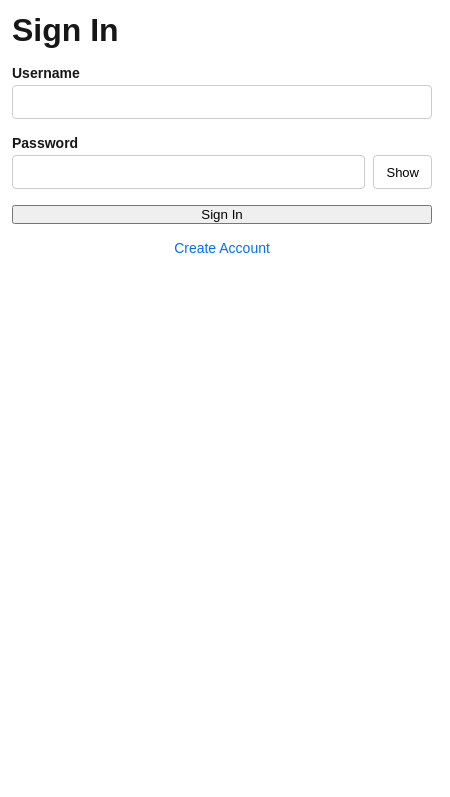
Test: AuthForm - create account mode › shows live positive feedback when passwords match
The width and height of the screenshot is (450, 797).
Step 1. Click the button "Create Account" → [222, 248], box left=12, top=240, right=432, bottom=256
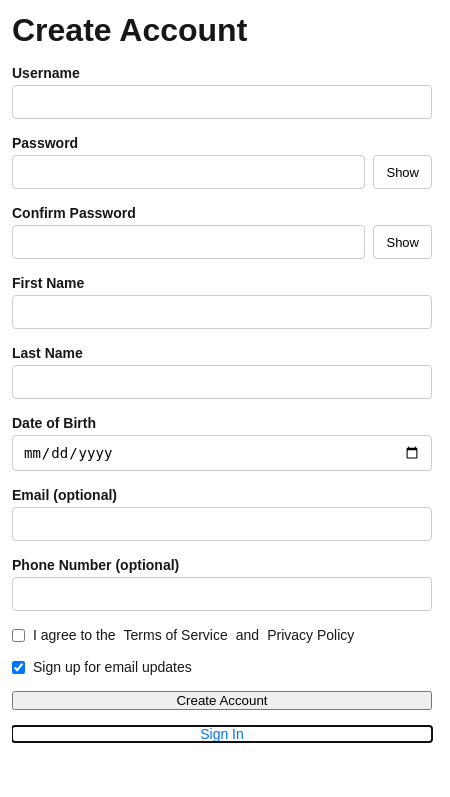
Step 2. Type "sup3rSecret!" into the password field labelled "Password" → [189, 172], box left=12, top=155, right=366, bottom=189
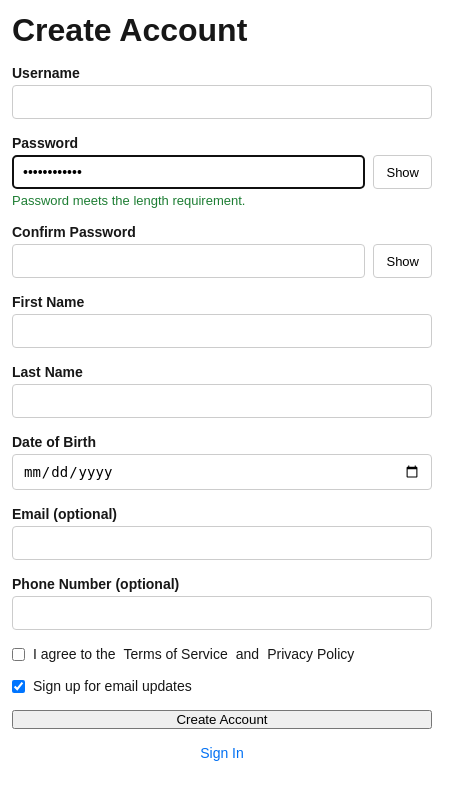
Step 3. Type "sup3rSecret!" into the password field labelled "Confirm Password" → [189, 261], box left=12, top=244, right=366, bottom=278
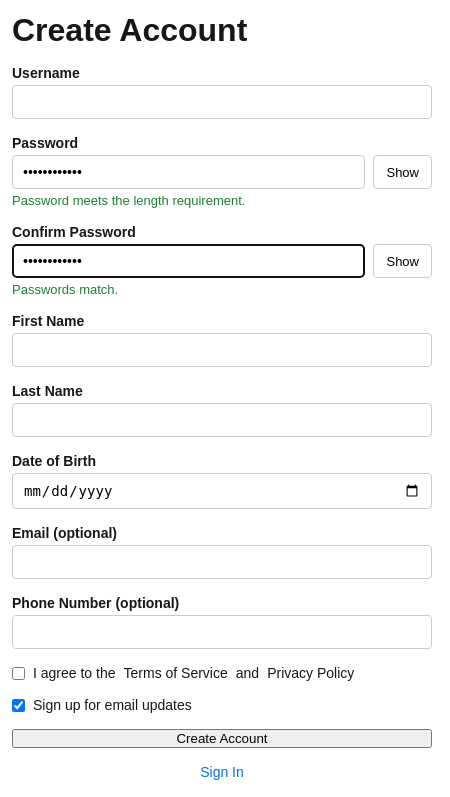
Check: the text "Passwords match." is shown, box left=12, top=282, right=118, bottom=297
